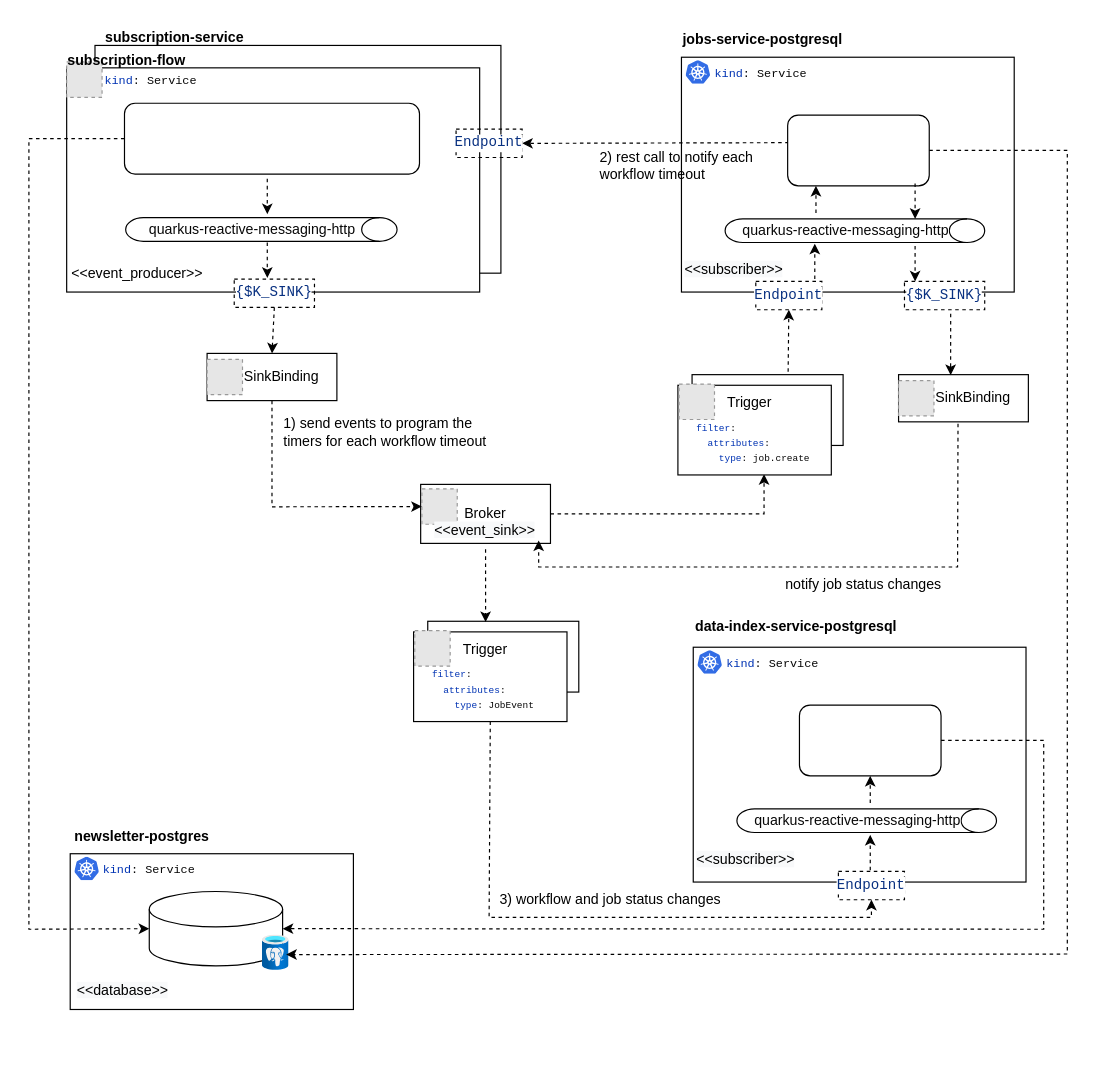
This 1097x1087 diagram has some shape labels left out. Grey dashed boxes stand in for pictures. The shapes that lost their labels are listed below. From the top down, each one's centre as x and y in pixels, then its label:
At point 271,138: "kogito-quarkus-serverless-workflow + kogito-addons-quarkus-jobs-knative-eventing".
At point 857,150: "Jobs Service".
At point 869,740: "Data Index Service".
